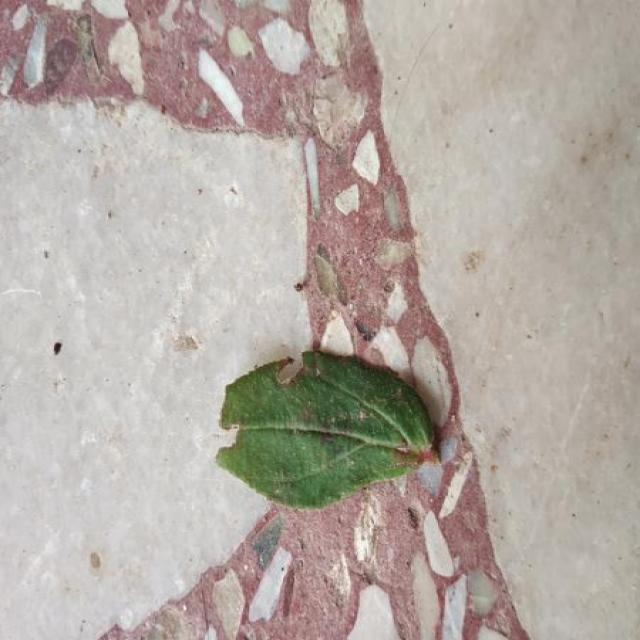defectetedAstma_weed: (217, 351, 434, 509)
disease in leaf: (217, 351, 437, 509)
